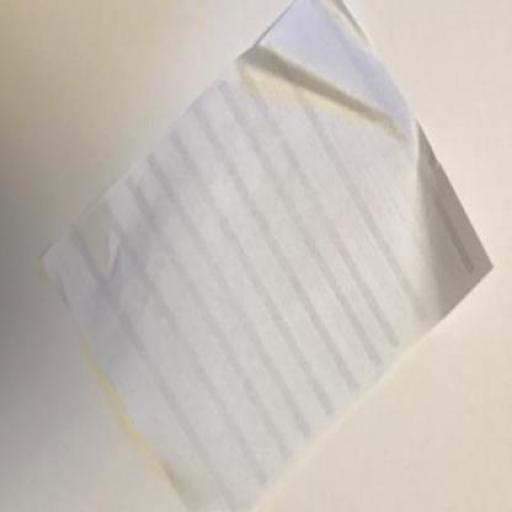paper: (42, 2, 496, 511)
